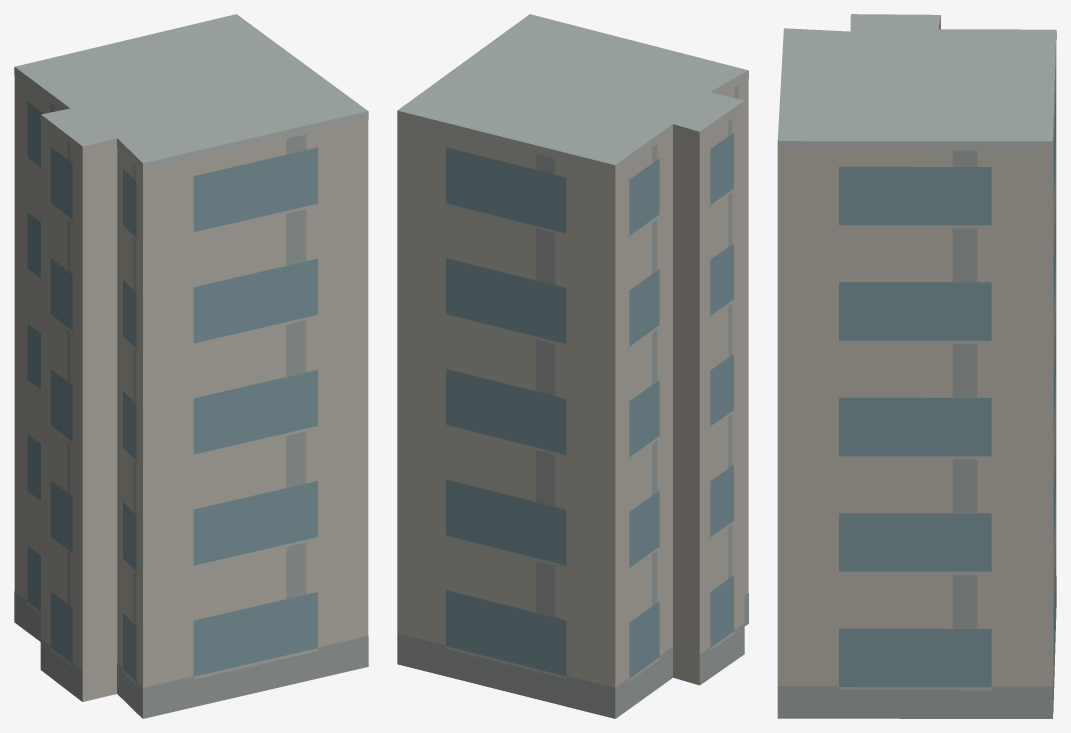
Rendered from survey-upis-32749267.glb.
3 renders of one model, left to right at view 1: azimuth 30°, elevation 25°; view 2: azimuth 150°, elevation 25°; view 3: azimuth 270°, elevation 25°, orthographic. The views are drawn at different scales.
Parts seen in each view (by area): view 1: survey-upis-32749267.tmp; view 2: survey-upis-32749267.tmp; view 3: survey-upis-32749267.tmp.
Part boxes in pixels (x1=…): survey-upis-32749267.tmp: x1=14, y1=14, x2=368, y2=718; survey-upis-32749267.tmp: x1=397, y1=14, x2=748, y2=718; survey-upis-32749267.tmp: x1=777, y1=14, x2=1056, y2=718.
Size of the model in its own units: 7.23 by 15.25 by 6.68.
